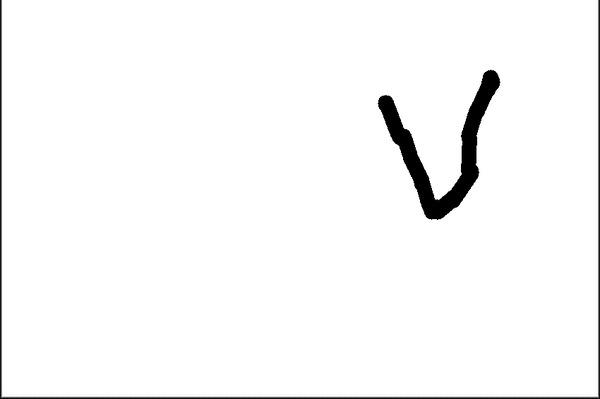V: (360, 63, 505, 222)
